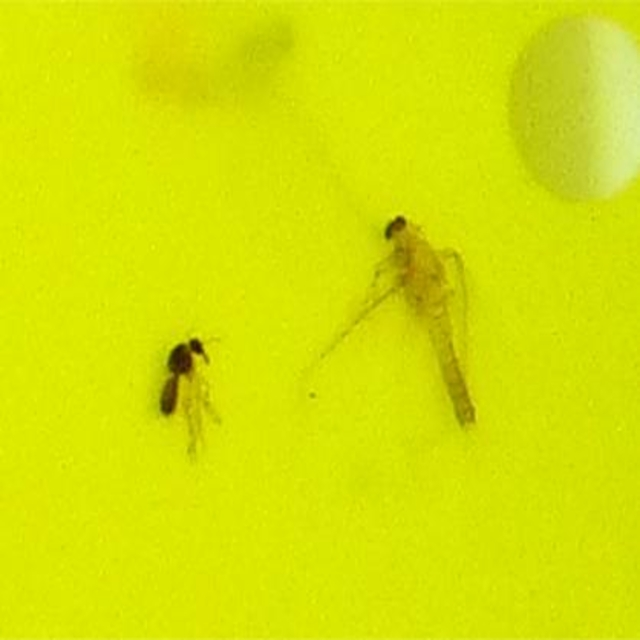Brachycera: (153, 331, 210, 421)
Ephemeroptera: (366, 199, 487, 441)
